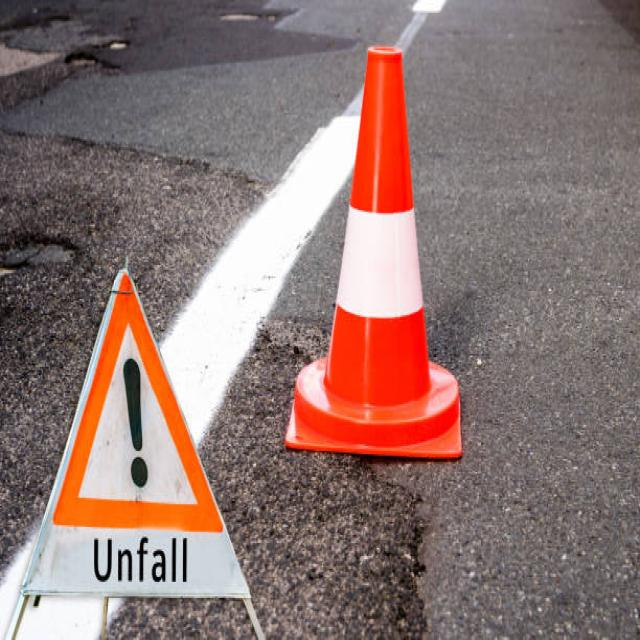Traffic Cone: (268, 11, 474, 519)
